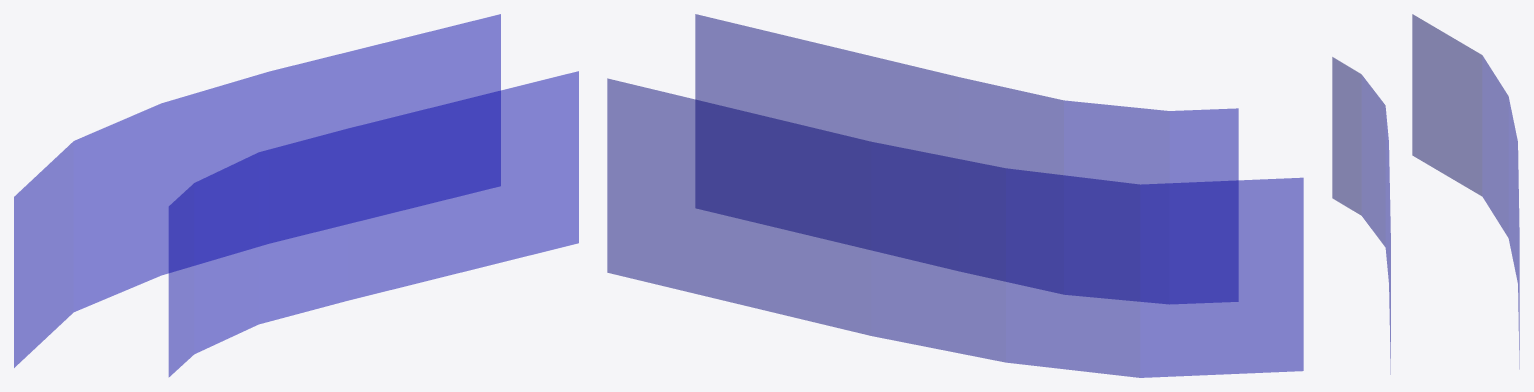
File: track_military_coll_wall_14.fbx
3 views of the same model, side by side, from view 1: azimuth 30°, elevation 25°; view 2: azimuth 150°, elevation 25°; view 3: azimuth 270°, elevation 25° (orthographic). The views are drawn at different scales.
Parts seen in each view (by area): view 1: track_military_coll_wall_14; view 2: track_military_coll_wall_14; view 3: track_military_coll_wall_14.
Part boxes in pixels (left/top/right/bottom): track_military_coll_wall_14: left=14, top=14, right=578, bottom=376; track_military_coll_wall_14: left=607, top=14, right=1303, bottom=377; track_military_coll_wall_14: left=1332, top=14, right=1519, bottom=374.
Bounding box in the file's own units: 107 × 31.79 × 37.94.
